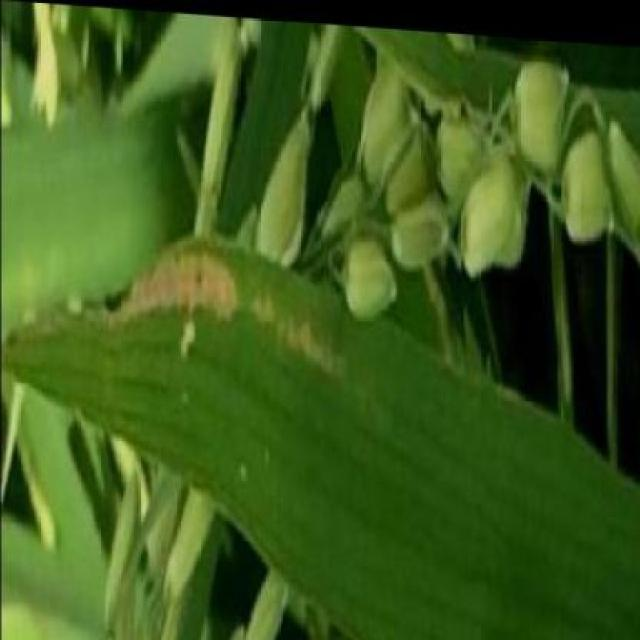Brown_Spot: (10, 226, 344, 466)
